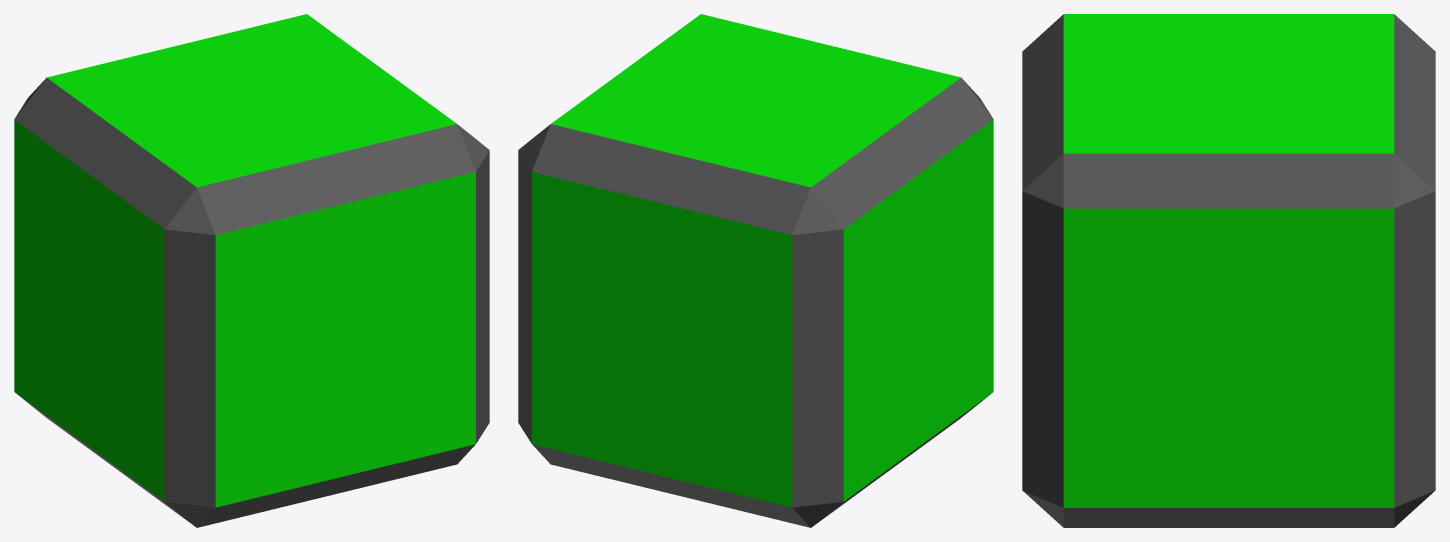
Rendered from Block_Floor.fbx.
The picture shows the model from 3 angles, left to right: view 1: azimuth 30°, elevation 25°; view 2: azimuth 150°, elevation 25°; view 3: azimuth 270°, elevation 25°; orthographic projection. The views are drawn at different scales.
Visible parts, largest first — view 1: pCube2; view 2: pCube2; view 3: pCube2.
Boxes of the visible parts, x1,y1,x2,y2 form: pCube2: (14, 14, 489, 527); pCube2: (518, 14, 993, 527); pCube2: (1022, 14, 1435, 527).
Size of the model in its own units: 1 by 1 by 1.
